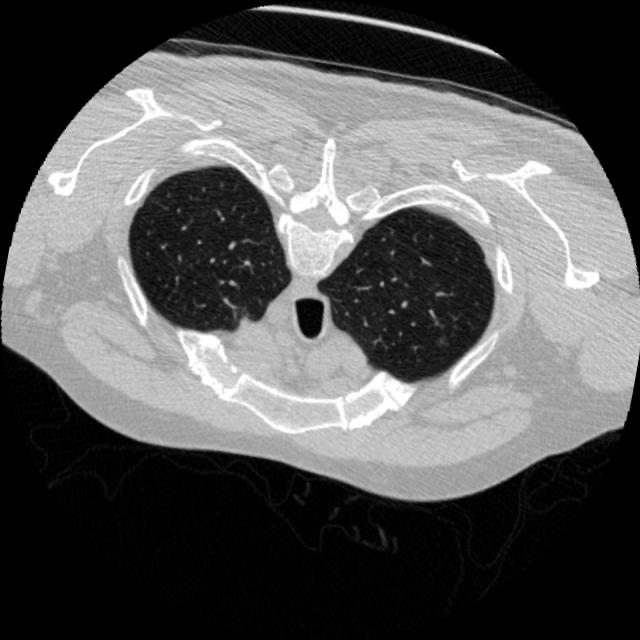nodule: (431, 329, 454, 352)
